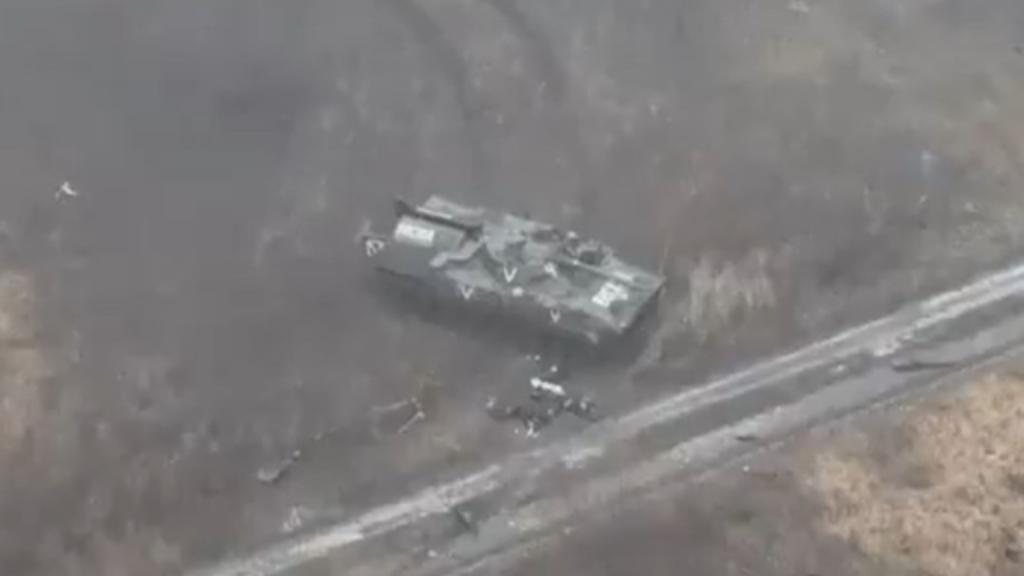APC-IFV: (370, 184, 672, 360)
